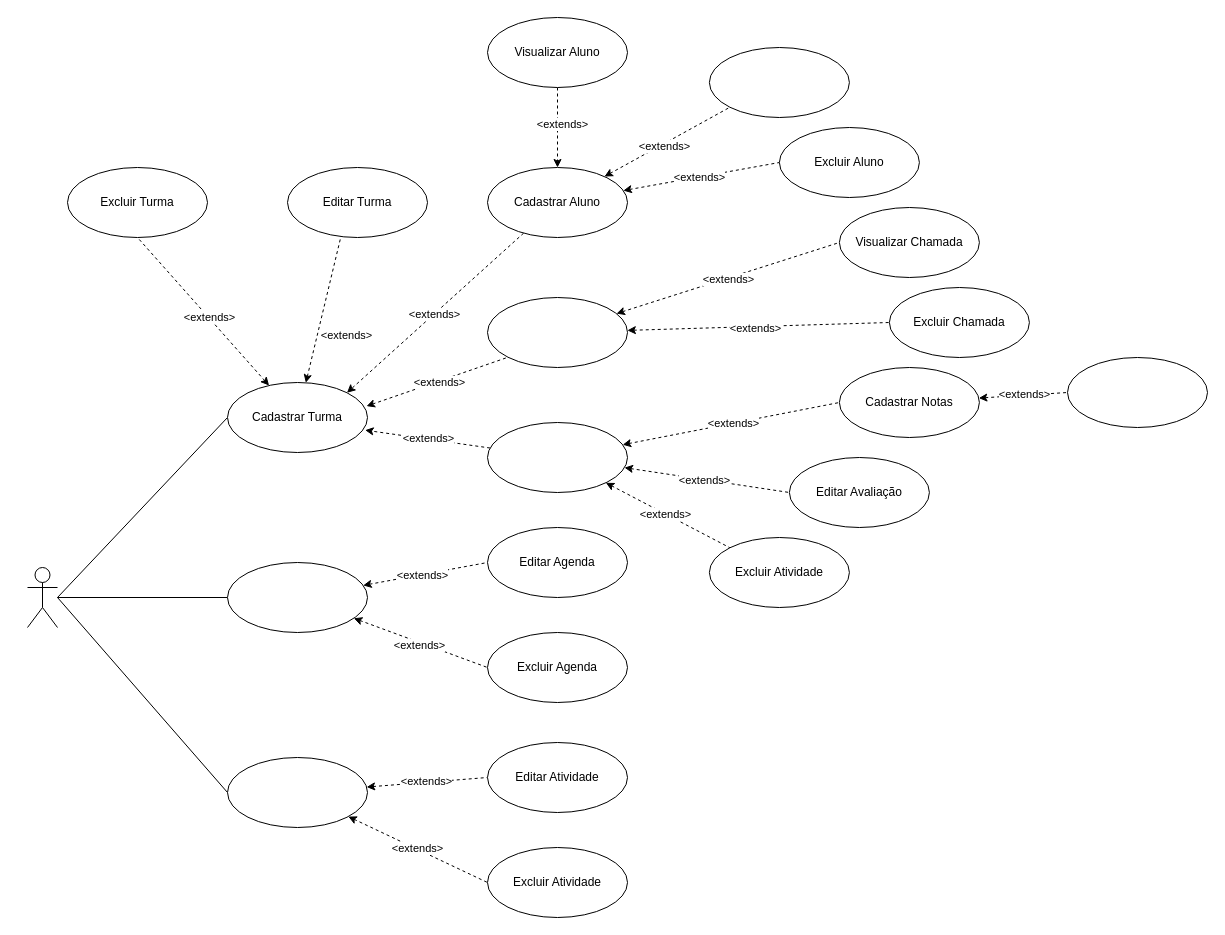
The diagram is 1225 pixels wide and 935 high, and some of its shapes have lost their labels. Each missing label, with the centre of its shape:
"Cadastrar Agenda" belongs at pixel 297 597.
"Cadastrar Atividade" belongs at pixel 297 792.
"Cadastrar Avaliação" belongs at pixel 557 457.
"Cadastrar Chamada" belongs at pixel 557 332.
"Editar Aluno" belongs at pixel 778 82.
"Editar Nota" belongs at pixel 1137 392.
"Professor" belongs at pixel 42 597.
